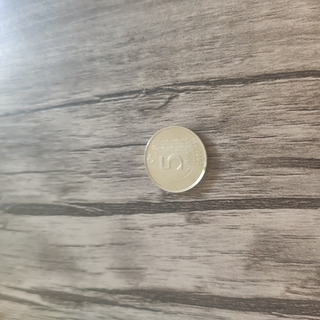5KURUS: (142, 124, 209, 195)
